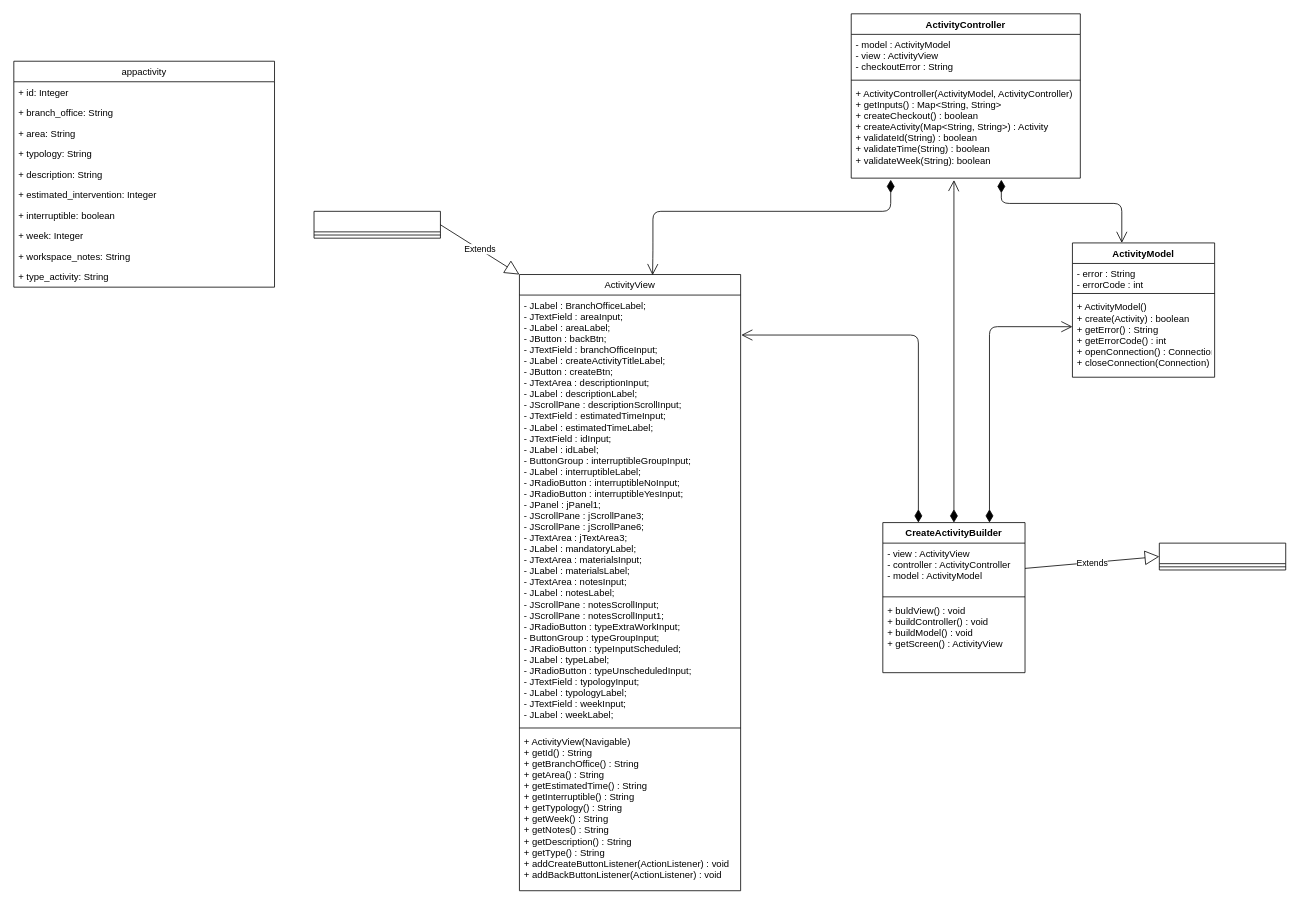
The diagram is 1300 pixels wide and 907 high, and some of its shapes have lost their labels. The centre of each missing label's shape, as x and y in pixels:
"Screen" belongs at (x=376, y=224).
"ScreenBuilder" belongs at (x=1222, y=556).
